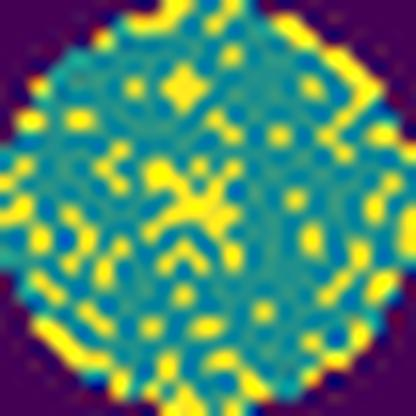Center: (133, 154, 246, 272)
